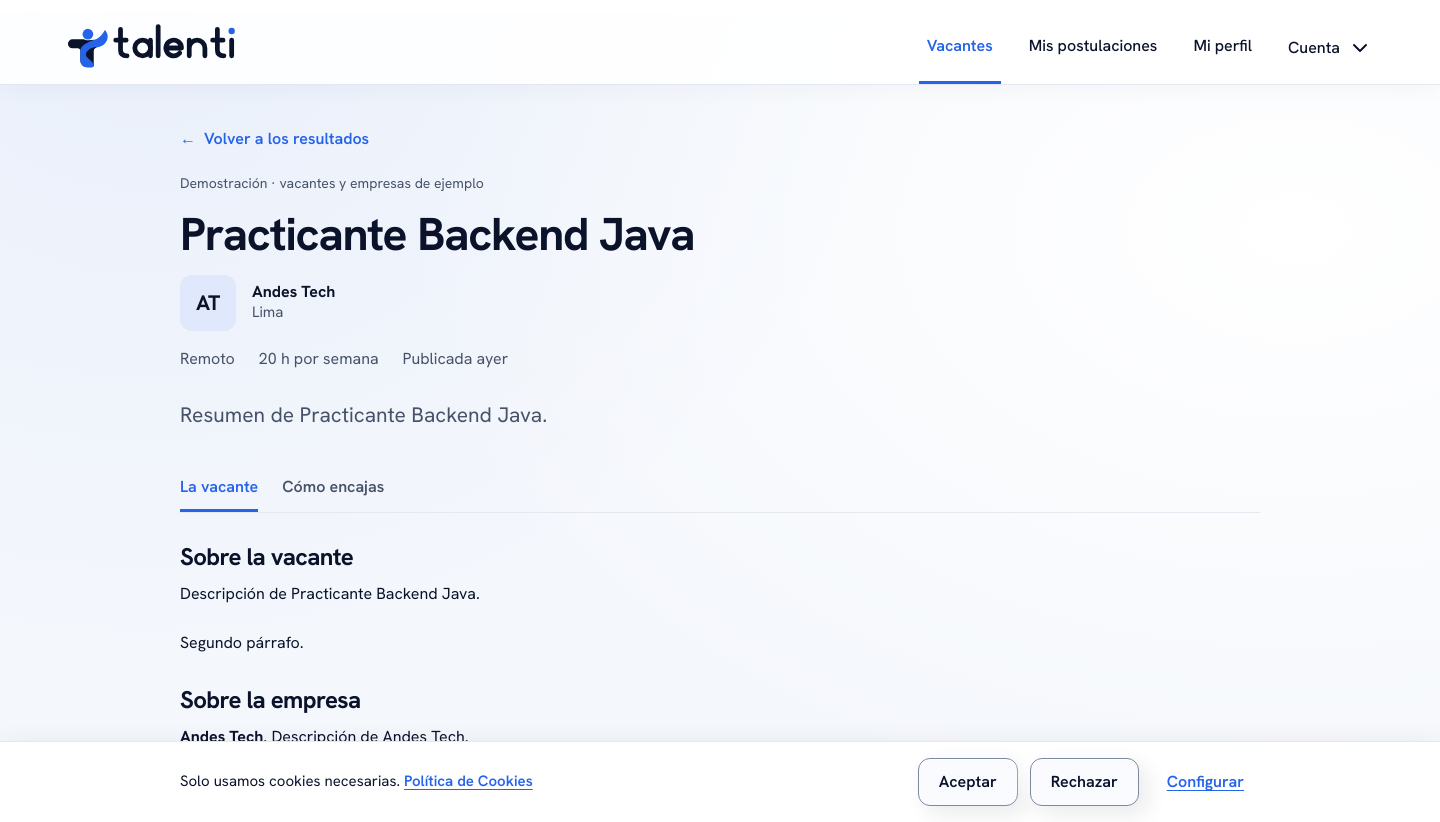
Panel "Tu compatibilidad" in the detail (007-18 to 007-21) › 007-19: matches remain read-only without a correction action
Click the button "Cómo encajas": [333, 488] box [282, 464, 384, 512]
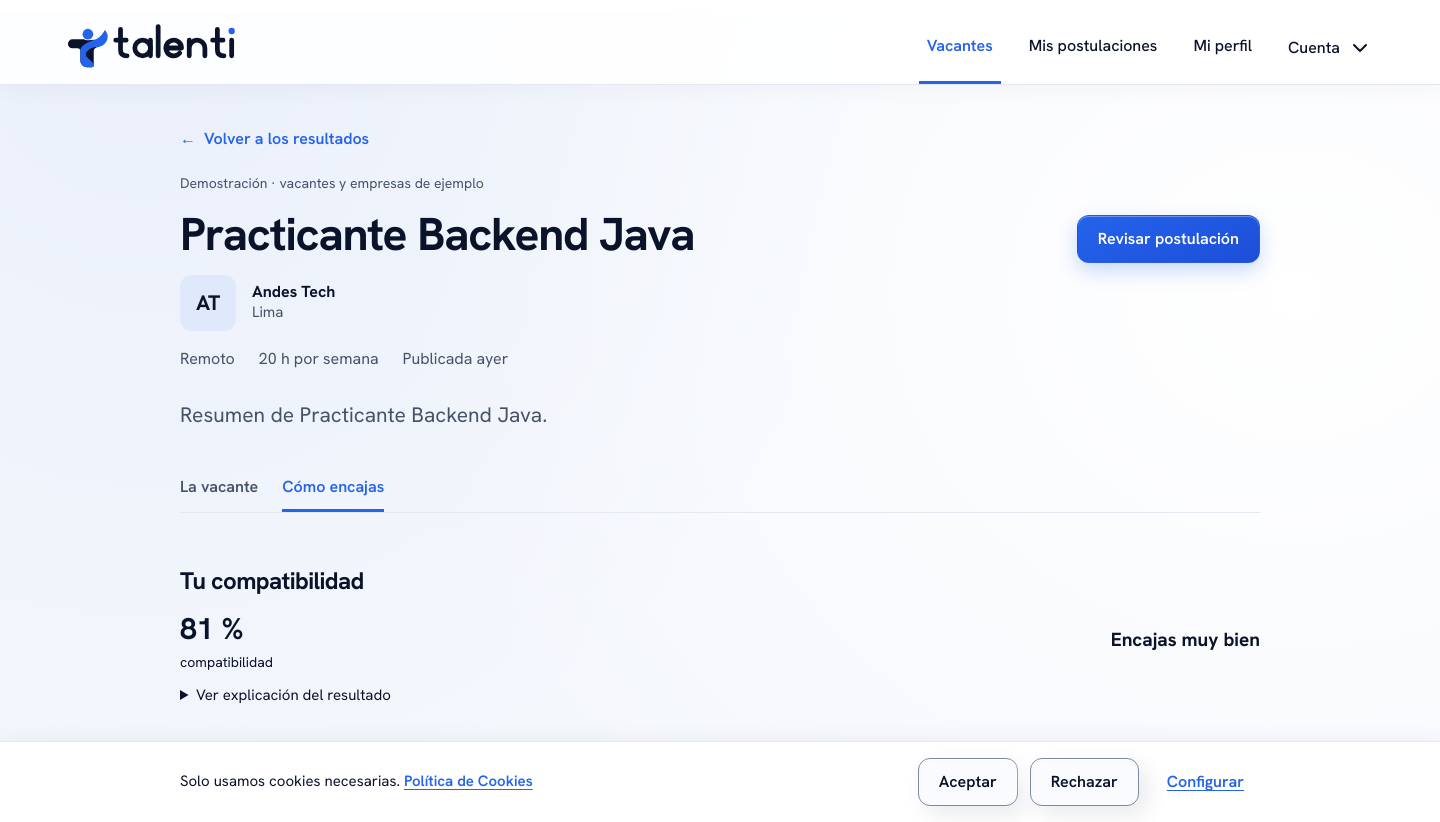
Result: the text "81 %" is shown at [180, 606, 273, 674]
